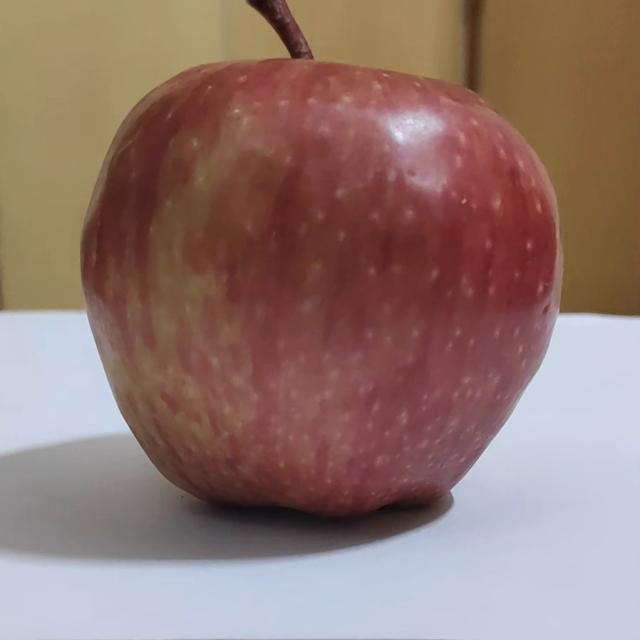apple: (75, 0, 566, 518)
